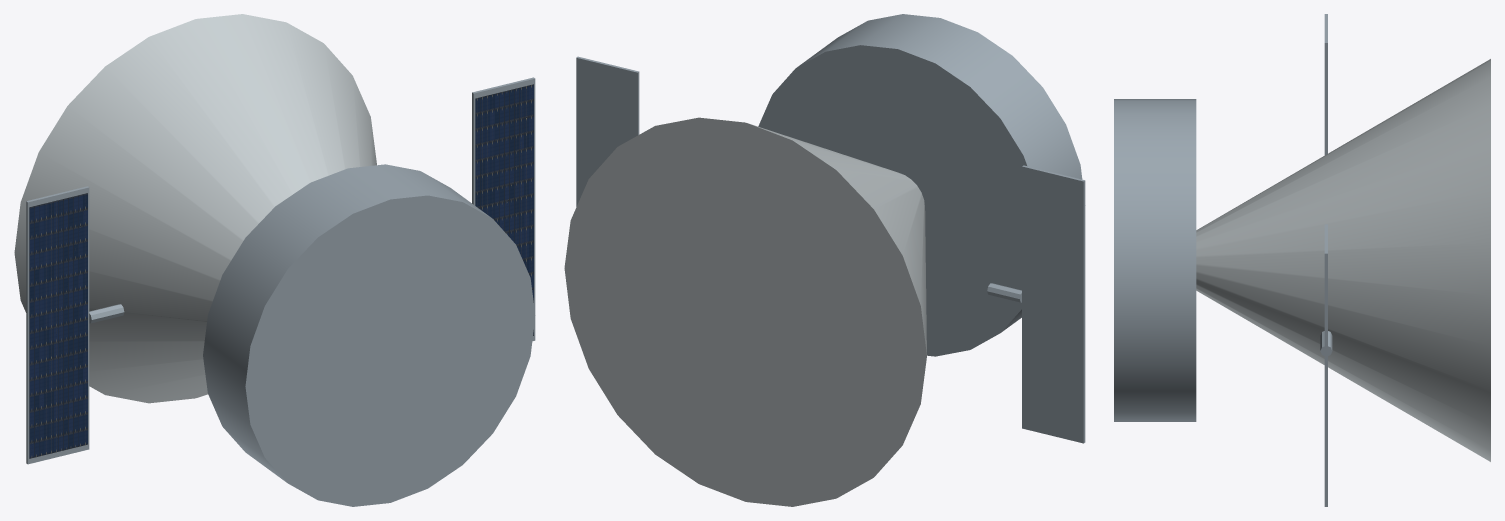
The model's file is ref-spherex-63182.glb.
3 renders of one model, left to right at view 1: azimuth 30°, elevation 25°; view 2: azimuth 150°, elevation 25°; view 3: azimuth 270°, elevation 25°, orthographic. The views are drawn at different scales.
Parts seen in each view (by area): view 1: Cylindrical section, Spacecraft body, Photovoltaic laminates (×2), Array frame (×2); view 2: Spacecraft body, Cylindrical section, Array frame (×2); view 3: Spacecraft body, Cylindrical section, Array frame (×2).
Part boxes in pixels (x1,y1,x2,y2): Cylindrical section: (203,164,535,506); Spacecraft body: (14,14,376,403); Photovoltaic laminates (×2): (29,84,533,458); Array frame (×2): (26,77,535,464); Spacecraft body: (564,117,926,506); Cylindrical section: (758,14,1082,356); Array frame (×2): (576,56,1085,443); Spacecraft body: (1196,59,1490,461); Cylindrical section: (1114,99,1196,421); Array frame (×2): (1324,14,1327,506).
Size of the model in its own units: 4.48 by 3.2 by 2.98.
Materials: 3 (1 with a texture image).
